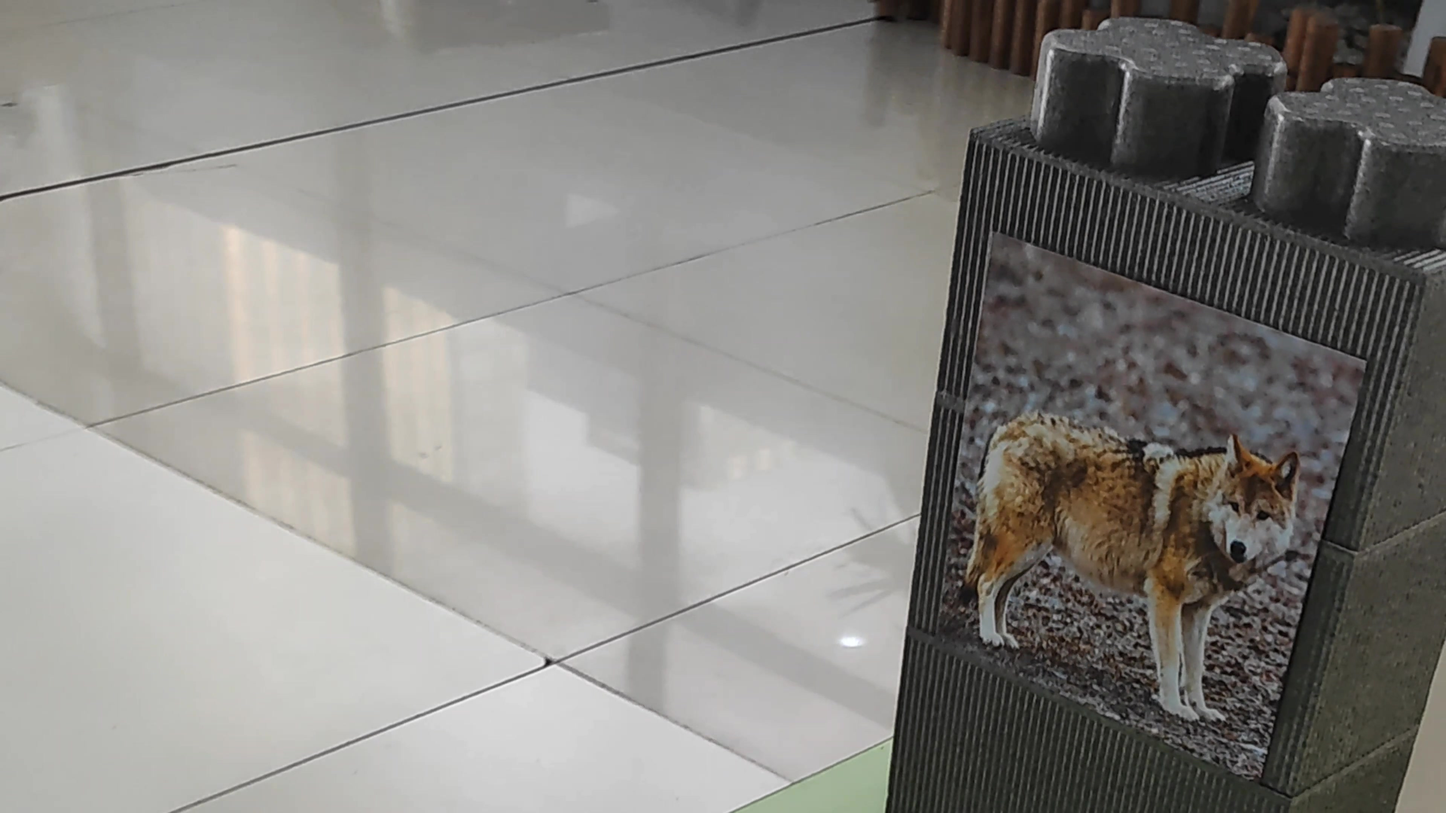wolf: (955, 355, 1318, 751)
